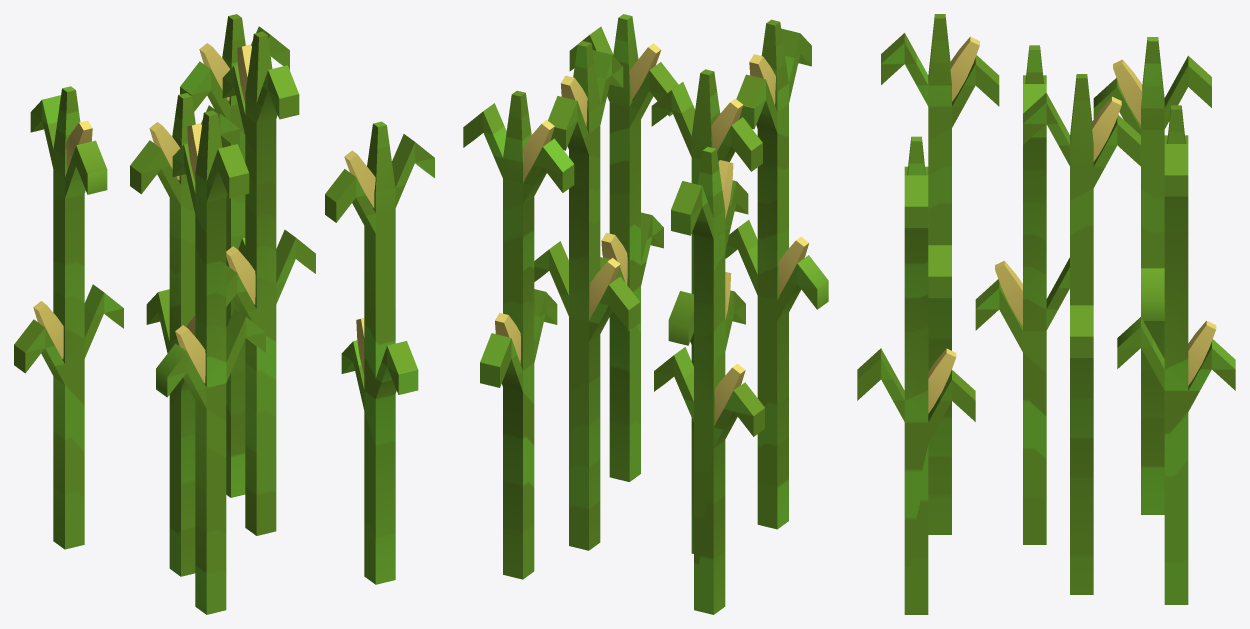
The model's file is Corn4.glb.
3 renders of one model, left to right at view 1: azimuth 30°, elevation 25°; view 2: azimuth 150°, elevation 25°; view 3: azimuth 270°, elevation 25°, orthographic. The views are drawn at different scales.
Parts seen in each view (by area): view 1: CornStage4; view 2: CornStage4; view 3: CornStage4.
Boxes of the visible parts, left/top/right/bottom form: CornStage4: left=14, top=14, right=434, bottom=614; CornStage4: left=463, top=14, right=828, bottom=614; CornStage4: left=857, top=14, right=1235, bottom=614.
Bounding box in the file's own units: 15 × 24 × 16.
Materials: 1 (1 with a texture image).
